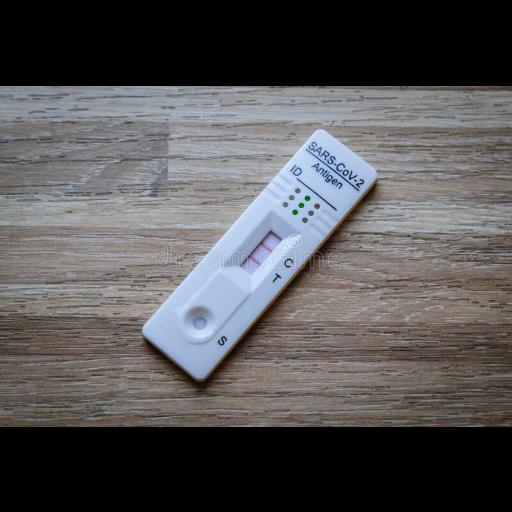Pos: (139, 127, 381, 381)
